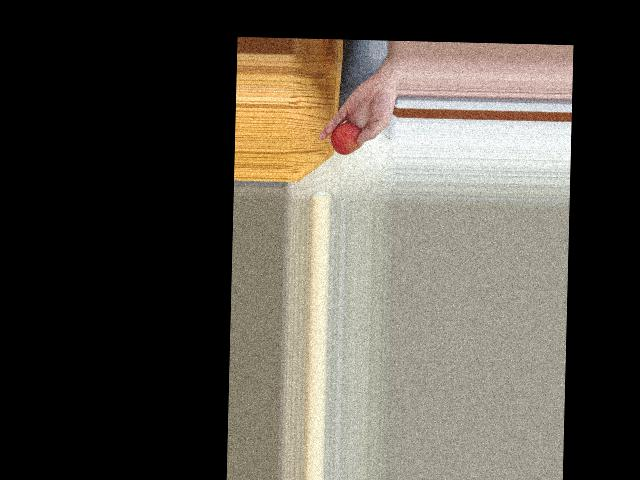apple: (331, 118, 366, 155)
